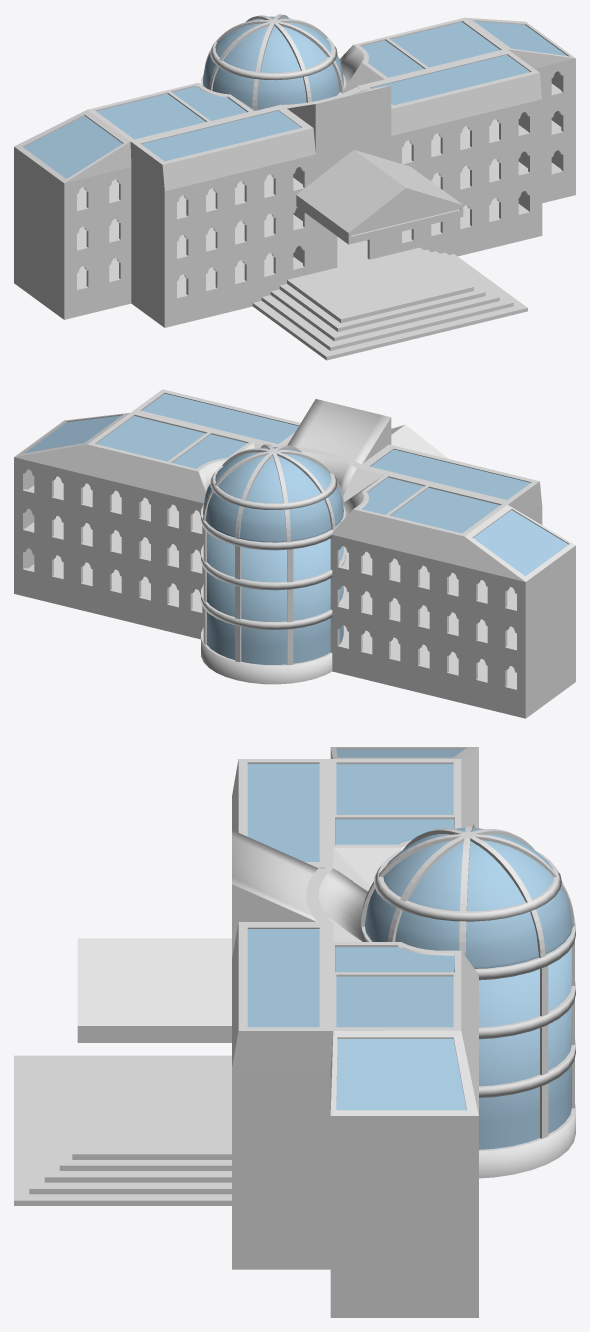
Rendered from Building.fbx.
3 views of the same model, one above another, from view 1: azimuth 30°, elevation 25°; view 2: azimuth 150°, elevation 25°; view 3: azimuth 270°, elevation 25° (orthographic). The views are drawn at different scales.
Visible parts, largest first — view 1: Cube.114, Cube.127, Cylinder.011, Cube.061, Cube.122, Cube.033, Cube.032, Sphere.001, Cube.029, Cube.031, Cube.030, Cube.014 (+15 smaller); view 2: Cylinder.011, Cylinder.006, Cube.127, Cube.061, Cube.111, Cube.032, Cube.033, Sphere.001, Cube.019, Cube.016, Cube.028, Cube.065 (+11 smaller); view 3: Cube.114, Cube.032, Cube.122, Cube.127, Sphere.001, Cube.033, Cube.111, Cylinder.006, Cylinder.011, Cube.061, Cube.065, Cube.009 (+5 smaller).
Part boxes in pixels (bbox=[...]): Cube.114: bbox=[252, 247, 527, 360]; Cube.127: bbox=[23, 86, 301, 178]; Cylinder.011: bbox=[14, 162, 575, 327]; Cube.061: bbox=[14, 82, 315, 190]; Cube.122: bbox=[296, 150, 463, 244]; Cube.033: bbox=[339, 17, 575, 135]; Cube.032: bbox=[361, 21, 566, 105]; Sphere.001: bbox=[203, 16, 343, 110]; Cube.029: bbox=[131, 232, 318, 309]; Cube.031: bbox=[131, 153, 318, 230]; Cube.030: bbox=[131, 199, 318, 269]; Cube.014: bbox=[388, 99, 542, 169]; Cylinder.011: bbox=[14, 555, 575, 718]; Cylinder.006: bbox=[207, 532, 343, 664]; Cube.127: bbox=[361, 449, 568, 575]; Cube.061: bbox=[332, 444, 575, 581]; Cube.111: bbox=[201, 444, 345, 665]; Cube.032: bbox=[25, 393, 298, 468]; Cube.033: bbox=[14, 389, 300, 503]; Sphere.001: bbox=[203, 447, 343, 542]; Cube.019: bbox=[380, 585, 575, 660]; Cube.016: bbox=[380, 624, 575, 700]; Cube.028: bbox=[380, 545, 575, 621]; Cube.065: bbox=[287, 399, 391, 495]; Cube.114: bbox=[14, 1055, 231, 1205]; Cube.032: bbox=[247, 929, 466, 1110]; Cube.122: bbox=[77, 938, 231, 1042]; Cube.127: bbox=[247, 749, 464, 861]; Sphere.001: bbox=[364, 828, 572, 968]; Cube.033: bbox=[232, 922, 478, 1115]; Cube.111: bbox=[361, 824, 575, 1138]; Cylinder.006: bbox=[479, 947, 571, 1149]; Cylinder.011: bbox=[232, 1103, 575, 1317]; Cube.061: bbox=[232, 747, 478, 891]; Cube.065: bbox=[232, 830, 367, 957]; Cube.009: bbox=[330, 1174, 478, 1232].
Bounding box in the file's own units: 6528 × 2462 × 4202.
